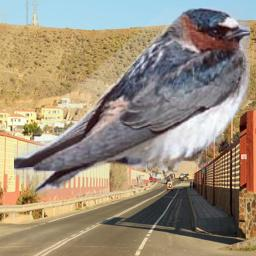Swallow: (14, 7, 250, 197)
